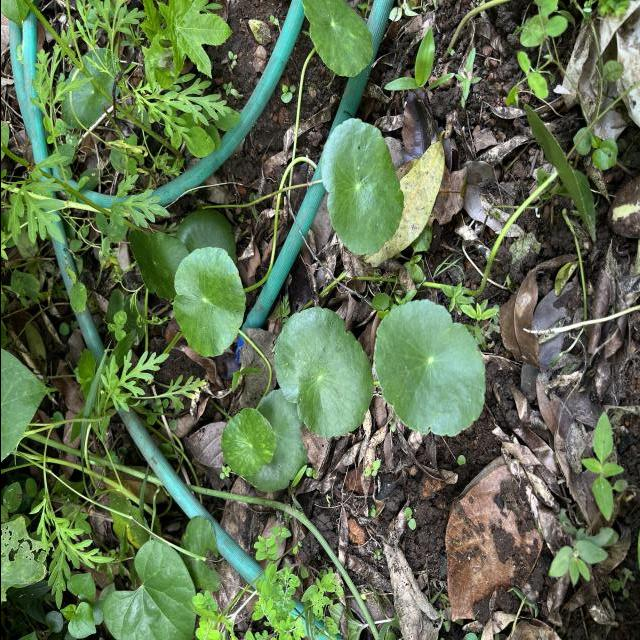Bacopa monnieri: (369, 296, 487, 438), (272, 304, 374, 440), (317, 116, 405, 257), (170, 245, 247, 360), (240, 386, 310, 494), (296, 1, 375, 81), (124, 228, 189, 302), (217, 406, 276, 478)
